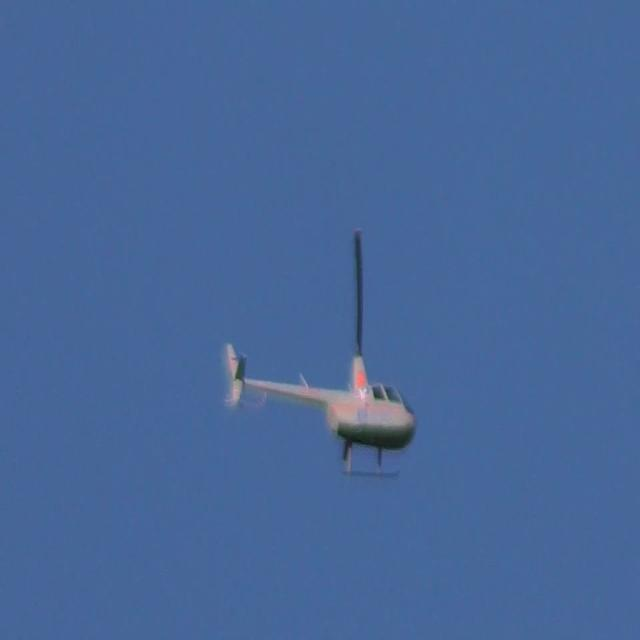CIV_HELO: (226, 338, 419, 480)
